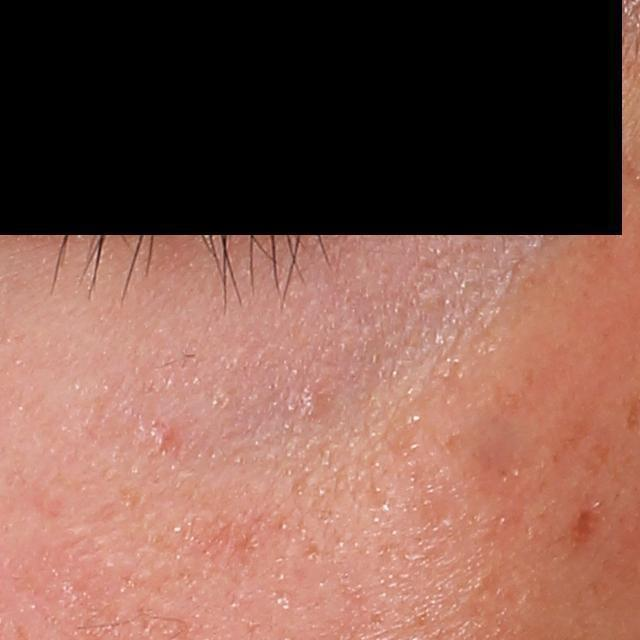melasma: (563, 502, 607, 553)
